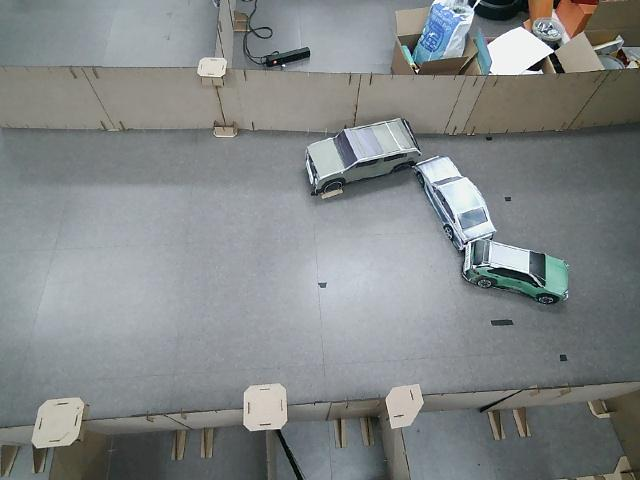car: (306, 117, 422, 193), (413, 154, 496, 250), (463, 237, 570, 305)
